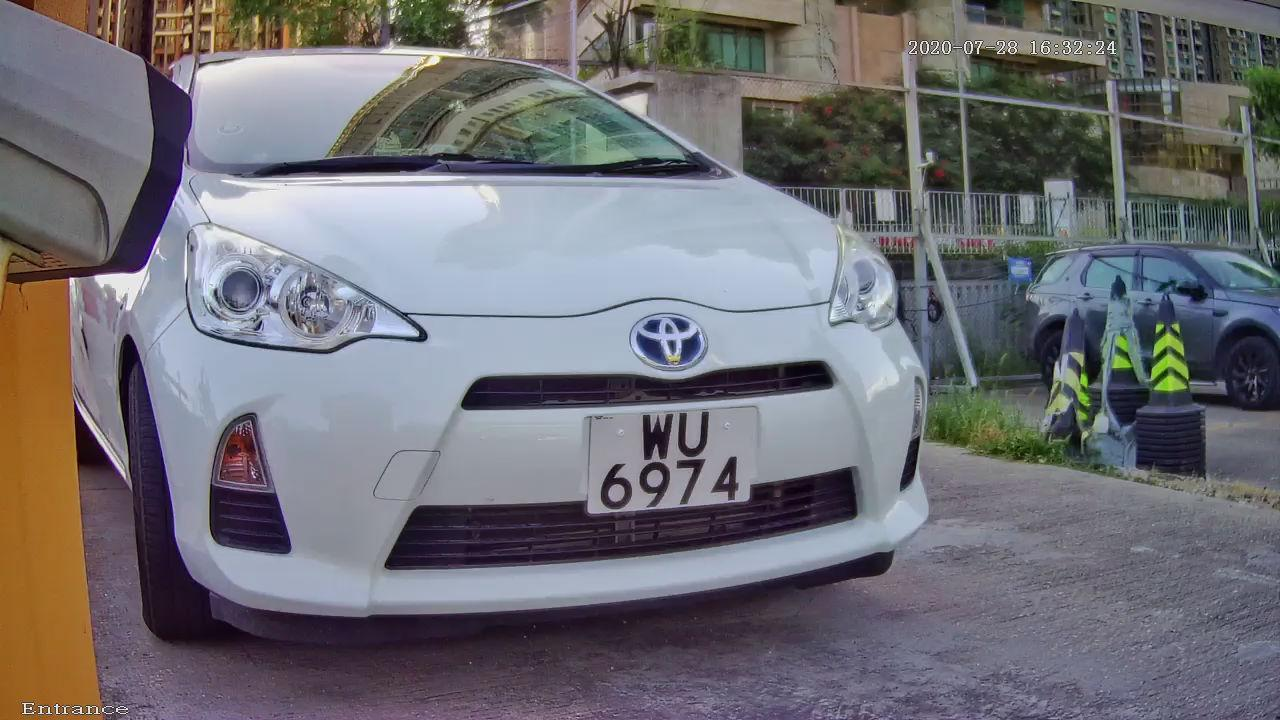privatecar: (41, 23, 1092, 663)
